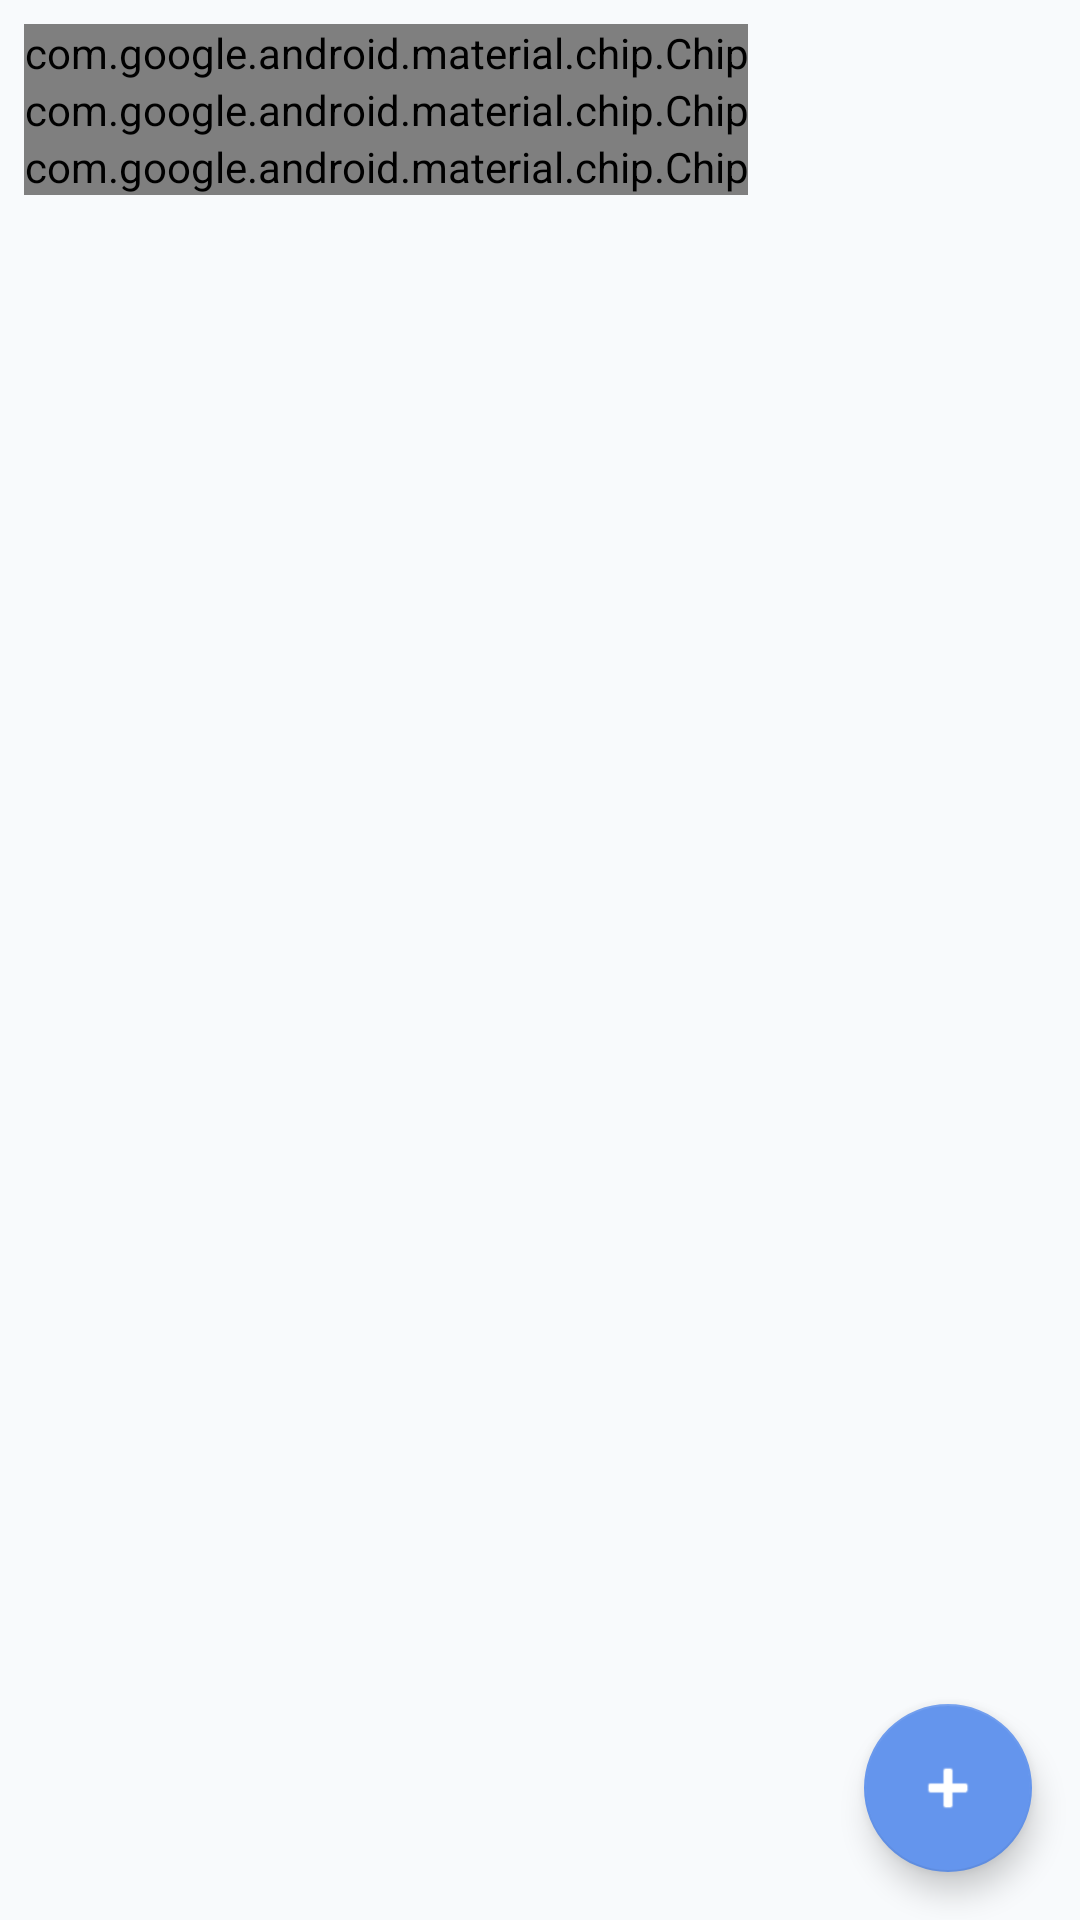

Icons on this 1080*1920 Android screen, each with the point to tap as [x,y]:
添加待办: [948,1788]
